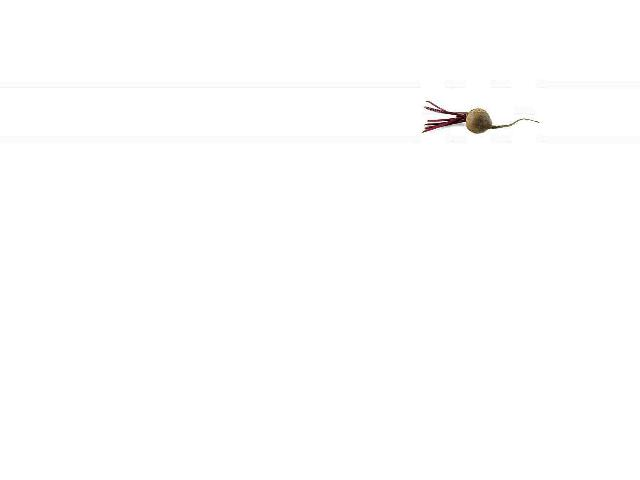beet: (423, 101, 540, 133)
